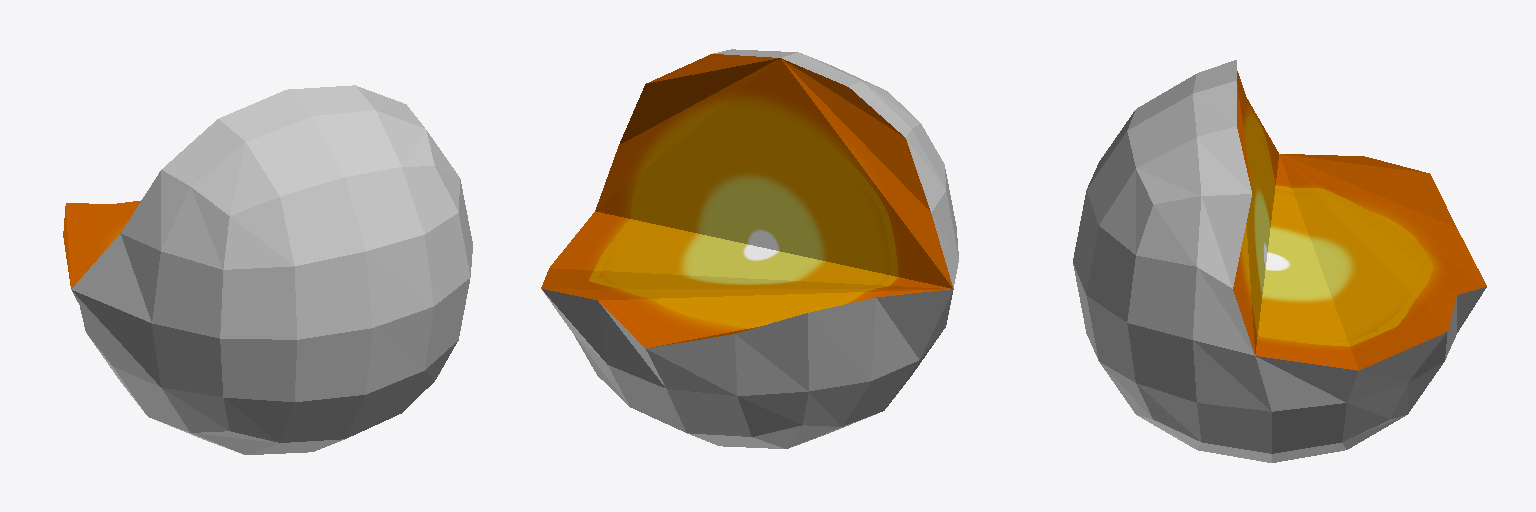
3 renders of one model, left to right at view 1: azimuth 30°, elevation 25°; view 2: azimuth 150°, elevation 25°; view 3: azimuth 270°, elevation 25°, orthographic.
Parts seen in each view (by area): view 1: Cube; view 2: Cube; view 3: Cube.
Boxes of the visible parts, x1,y1,x2,y2 form: Cube: [63, 85, 472, 454]; Cube: [541, 49, 958, 448]; Cube: [1073, 60, 1486, 462].
Bounding box in the file's own units: 10.99 × 10.2 × 10.65.
Materials: 2 (1 with a texture image).